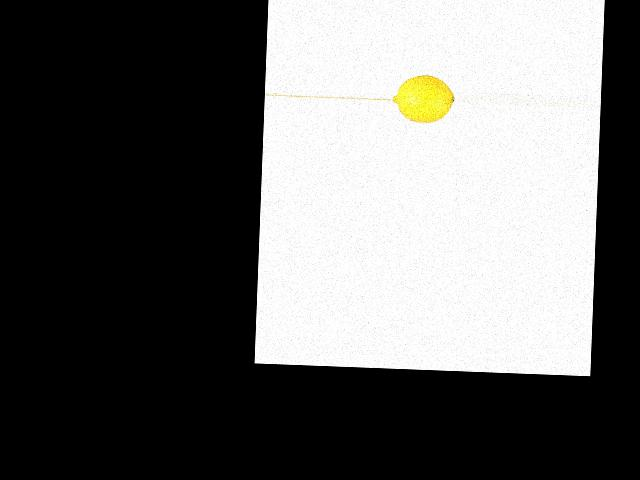lemon: (392, 73, 454, 123)
